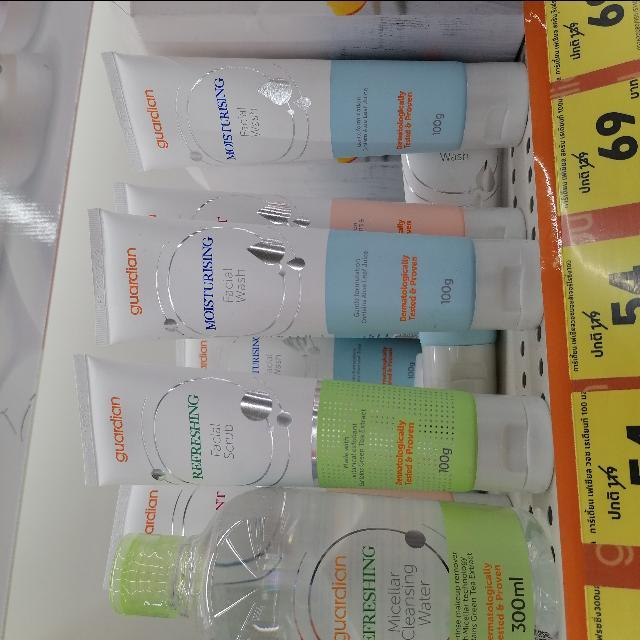Squeeze Tube: (90, 2, 564, 639), (84, 359, 564, 494), (94, 210, 548, 348), (113, 39, 530, 179)
